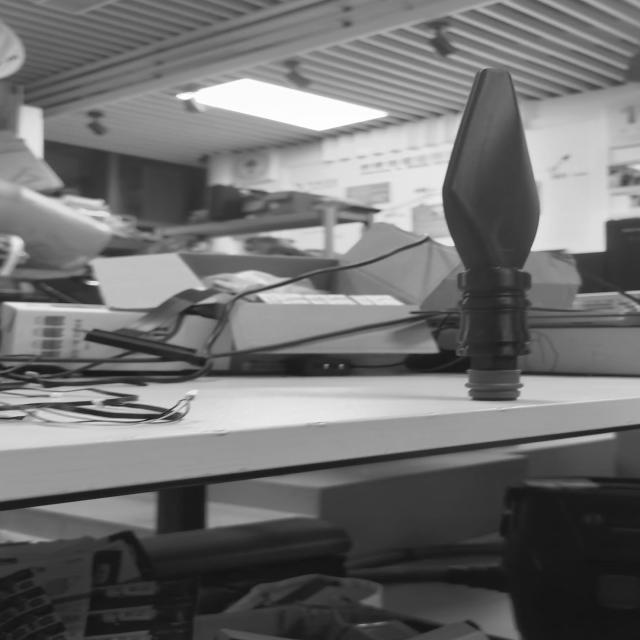base: (462, 367, 529, 408)
